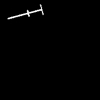double_crochet: (8, 5, 42, 18)
